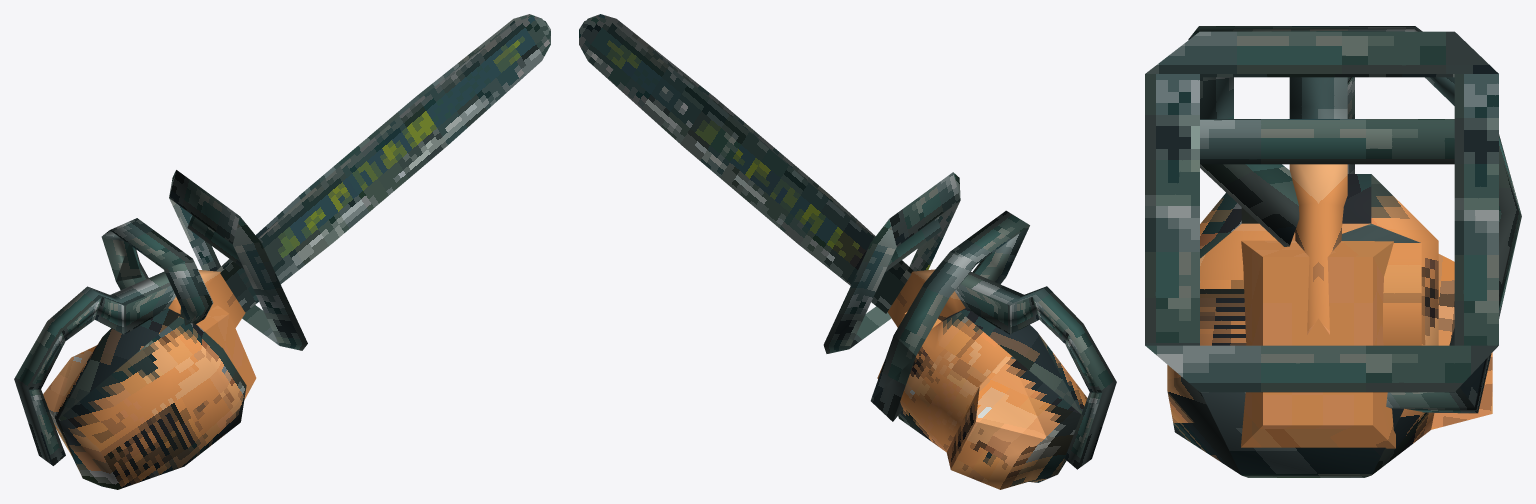
Rendered from Chainsaw.fbx.
The picture shows the model from 3 angles, left to right: view 1: azimuth 30°, elevation 25°; view 2: azimuth 150°, elevation 25°; view 3: azimuth 270°, elevation 25°; orthographic projection. The views are drawn at different scales.
Visible parts, largest first — view 1: chnsaw; view 2: chnsaw; view 3: chnsaw.
Boxes of the visible parts, left/top/right/bottom form: chnsaw: left=14, top=14, right=550, bottom=489; chnsaw: left=579, top=14, right=1116, bottom=489; chnsaw: left=1145, top=26, right=1521, bottom=477.
Size of the model in its own units: 81.12 by 53.33 by 25.12.
Materials: 1 (1 with a texture image).
